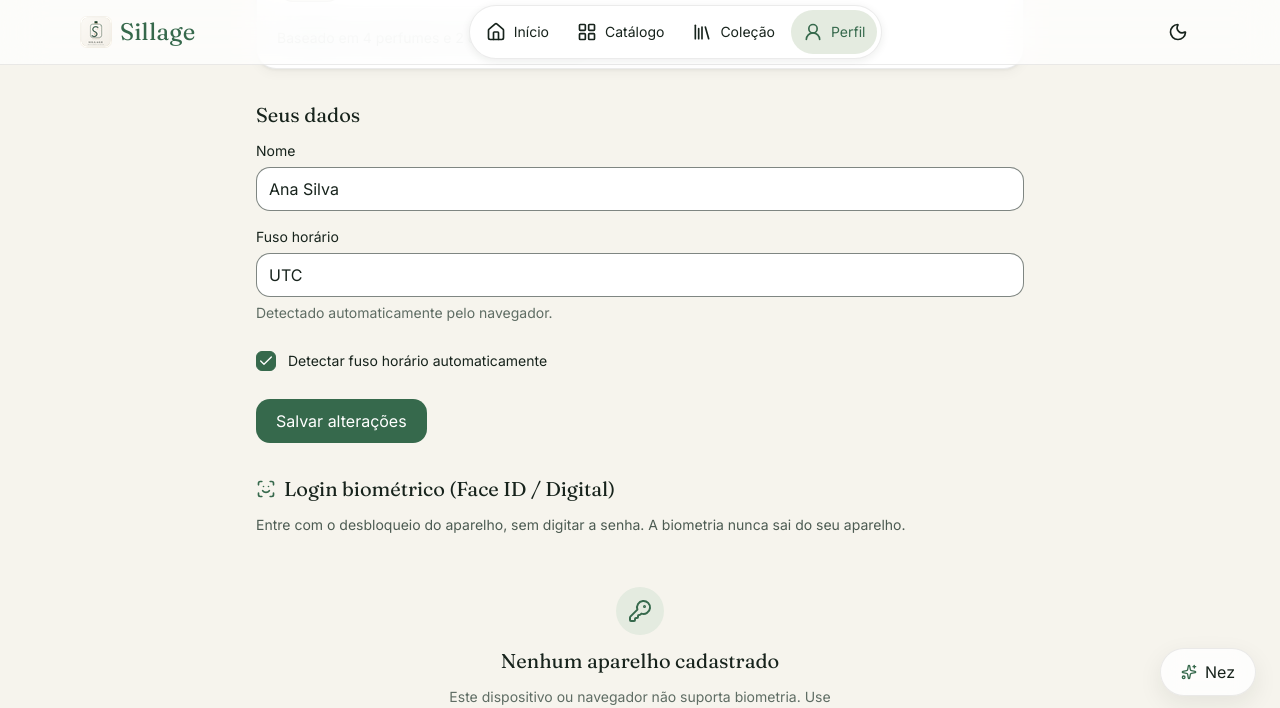
Test: ProfilePage › NEGADO: fuso inválido é rejeitado e nada é salvo
The image size is (1280, 708).
(page scrolled)
Click the checkbox labelled "Detectar fuso horário automaticamente": (266, 360) [256,350,276,370]
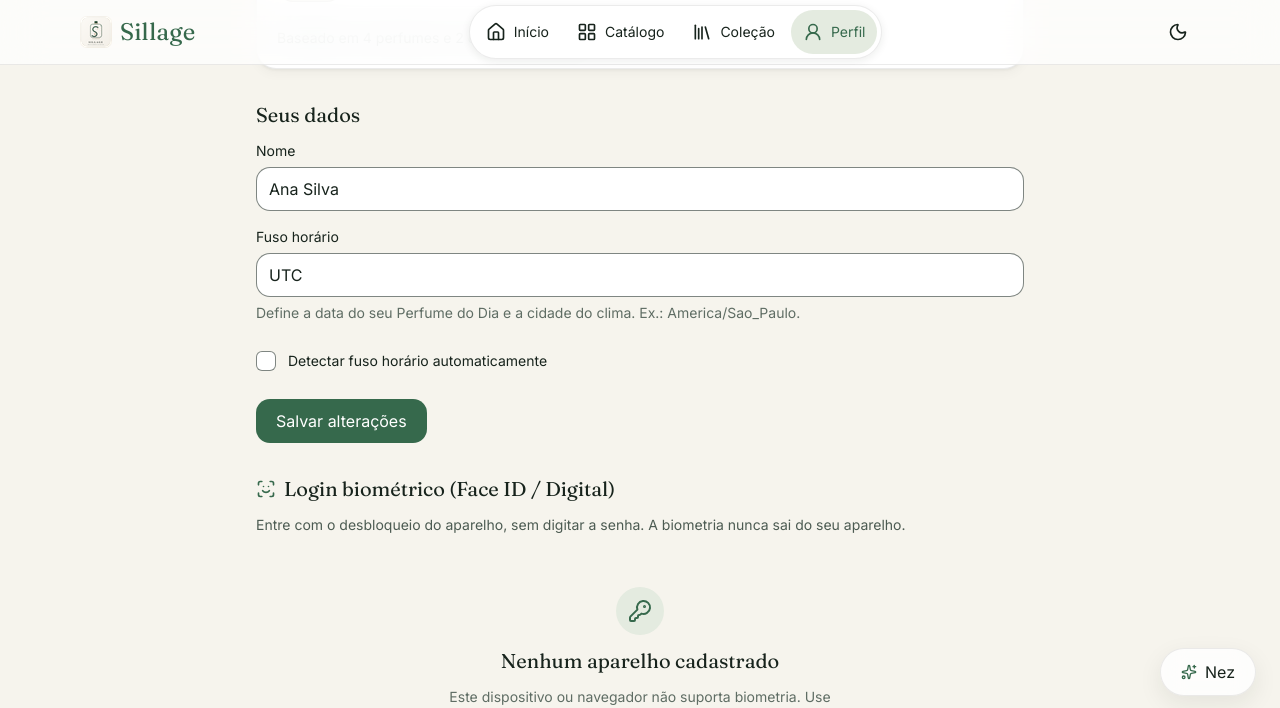
Replace the text in the field labelled "Fuso horário" with "Marte/Olympus": (640, 274) [256,252,1024,296]
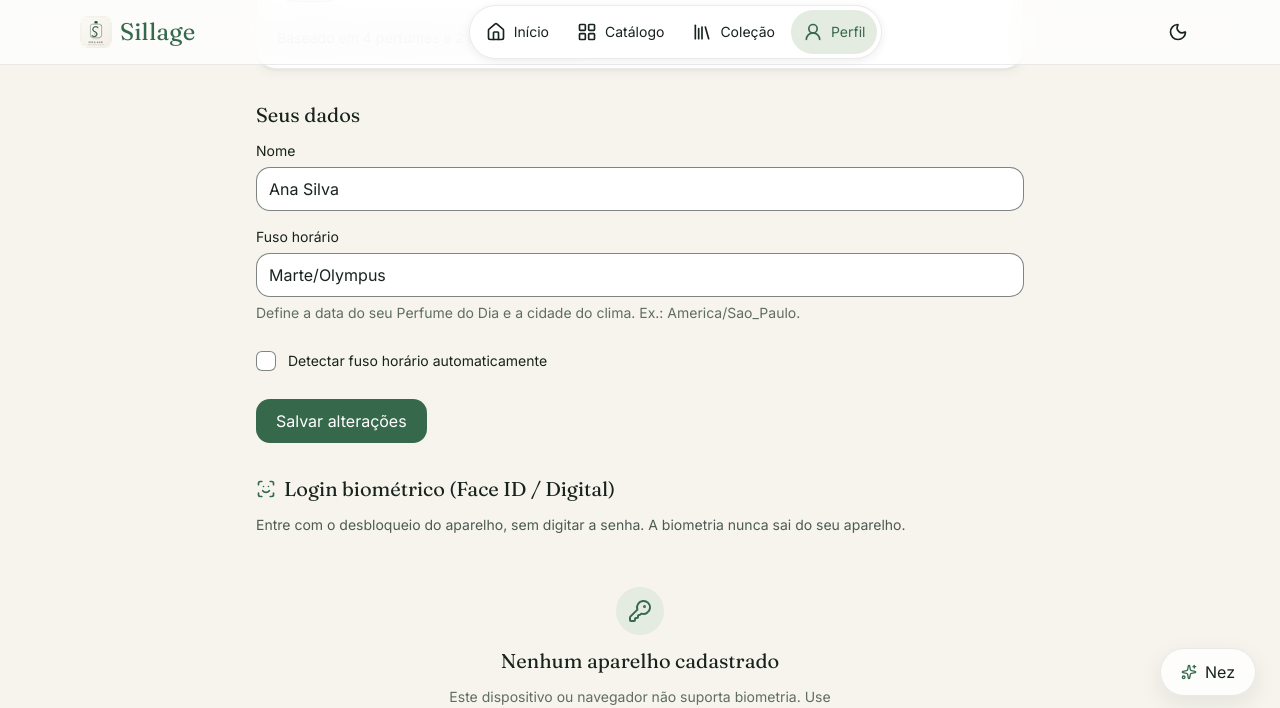
Click the button "Salvar alterações": (341, 420) [256,398,427,442]
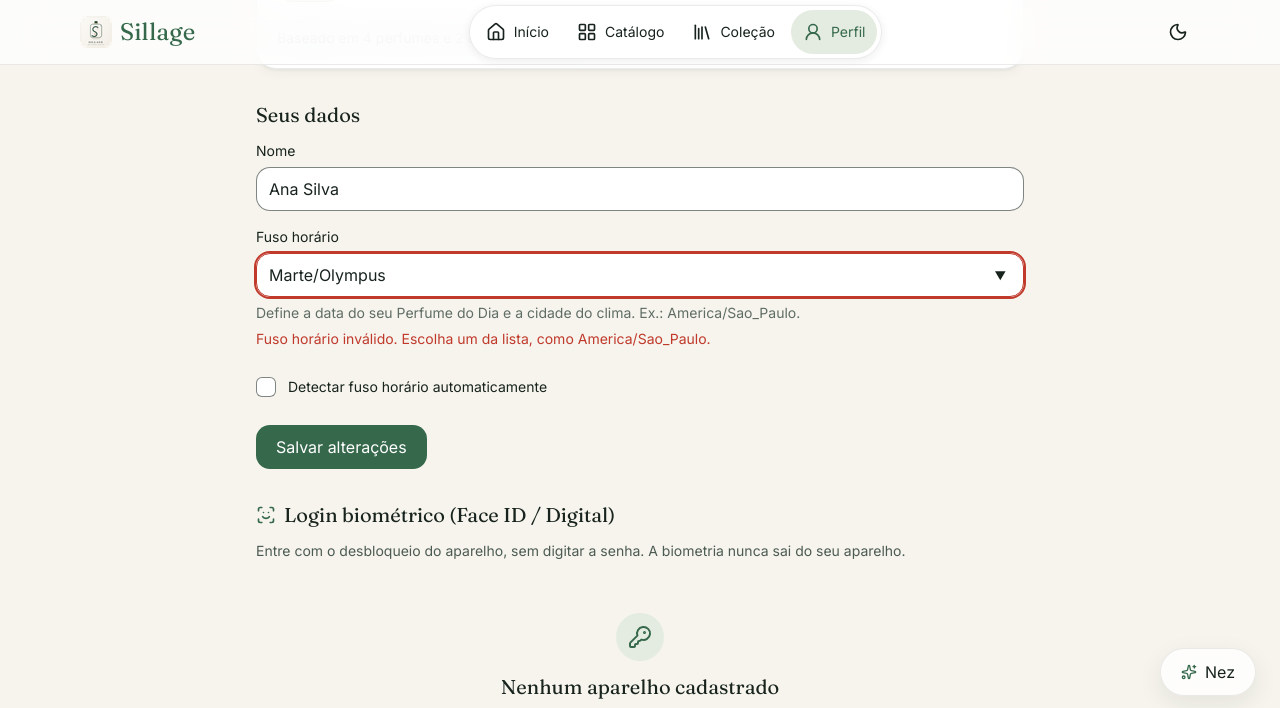
Expected: the text "Fuso horário inválido" is shown, [256,330,711,346]
